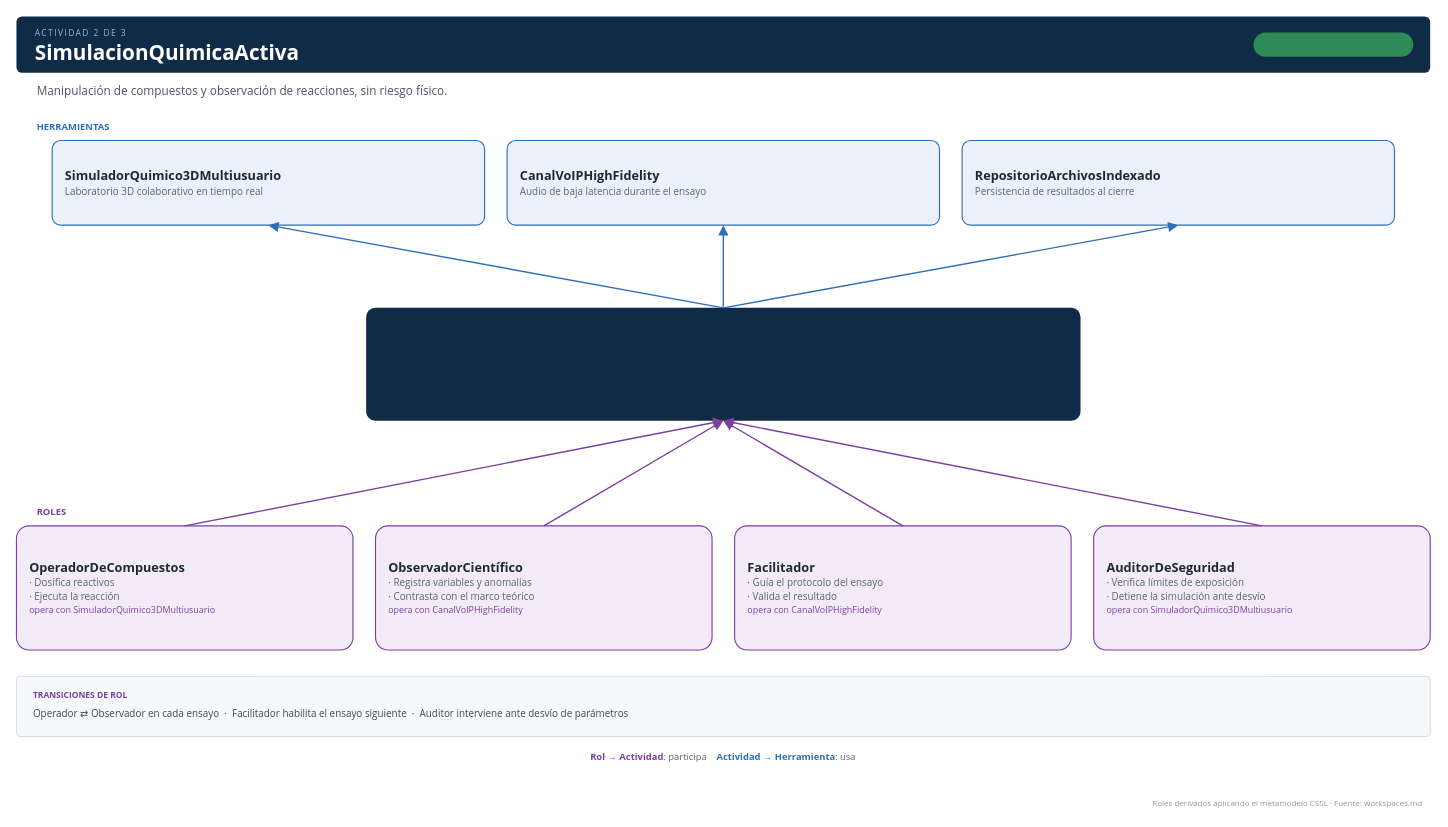
The diagram is 1448 pixels wide and 827 high, and some of its shapes have lost their labels. Here are the shapes that lost their labels. From the top down, the centre of each, then its label:
[1333,44]: SINCRÓNICA
[723,363]: PROTOCOLO DE COLABORACIÓN Briefing → Ensayo → Observación → Registro → Cierre
